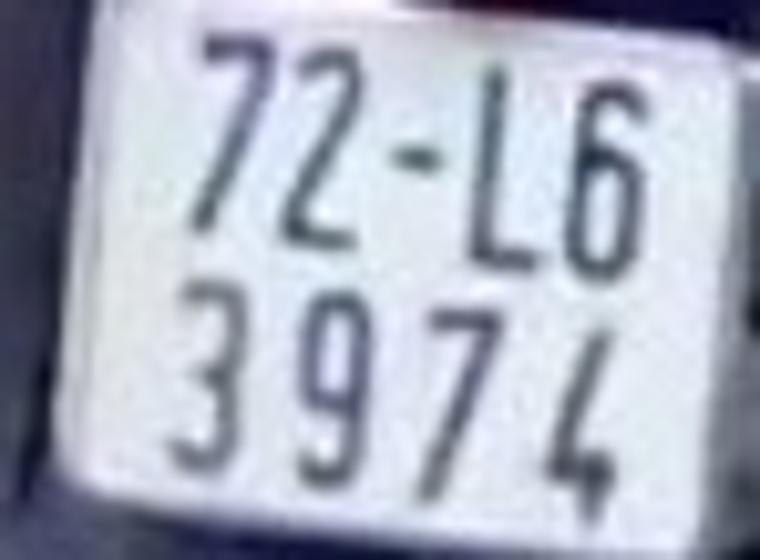-: (379, 136, 451, 190)
2: (280, 35, 373, 261)
3: (173, 274, 250, 488)
4: (534, 321, 633, 533)
6: (567, 68, 655, 289)
7: (412, 299, 516, 512), (188, 28, 281, 241)
9: (286, 282, 380, 500)
L: (463, 57, 551, 283)
